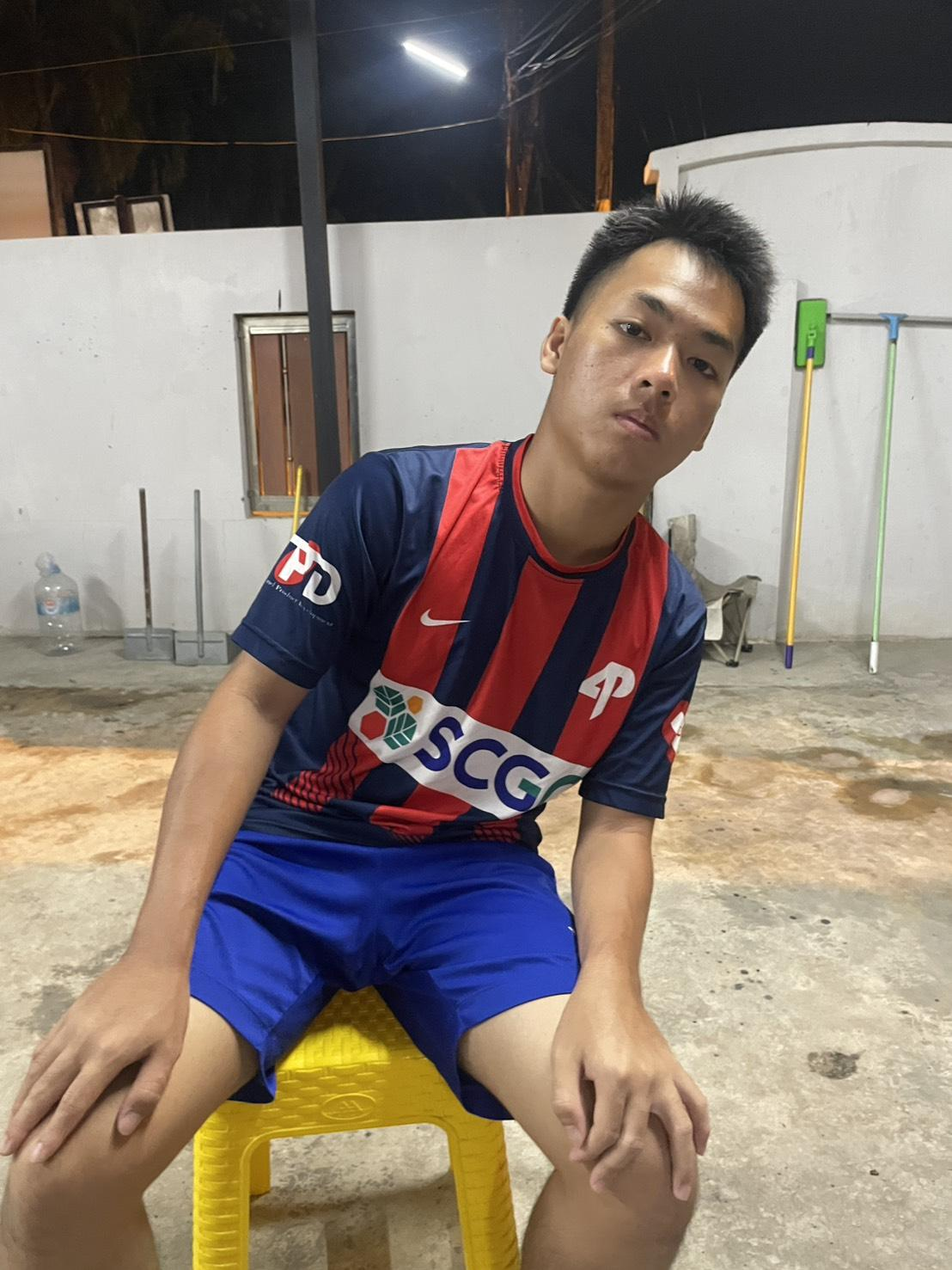BadPosture: (108, 191, 774, 994)
